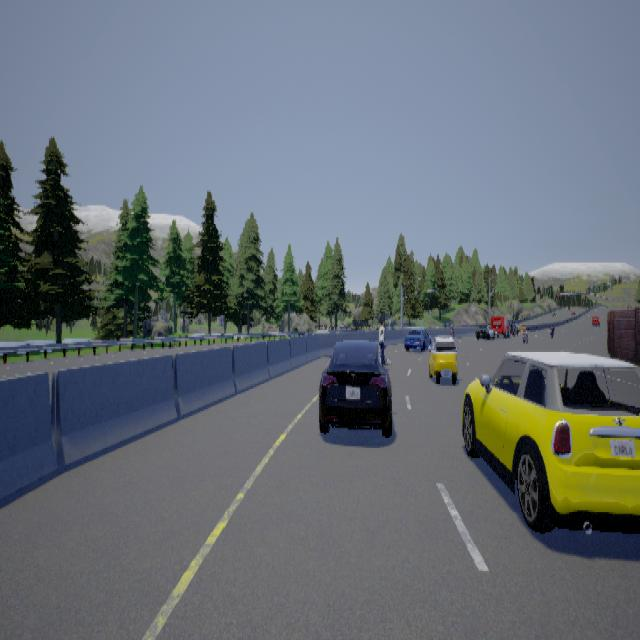bike: (376, 320, 390, 365)
vehicle: (461, 350, 639, 532), (318, 339, 391, 436), (427, 332, 458, 386), (474, 315, 518, 338), (402, 327, 430, 352)
